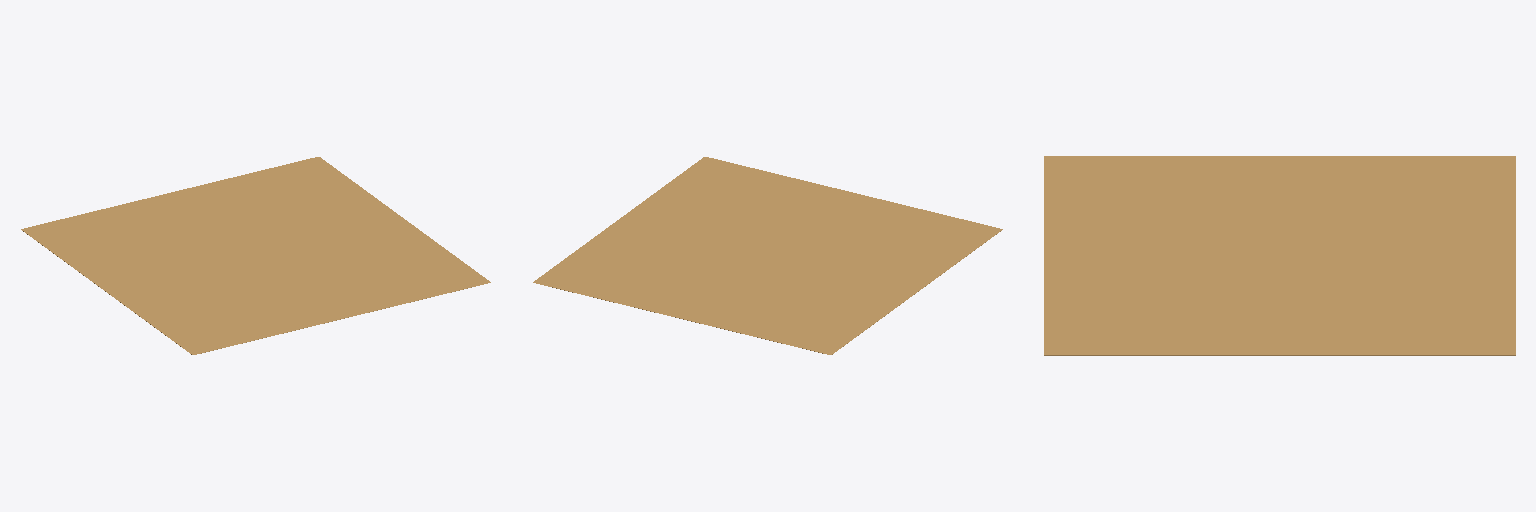
URDF robot description (region):
<?xml version="1.0"?>
<robot name="region">
  <material name="Wood">
    <color rgba="0.827 0.675 0.463 1.0"/>
  </material>
  <material name="LightWood">
    <color rgba="0.992, 0.871, 0.682, 1.0"/>
  </material>
  <material name="Metal">
    <color rgba="0.718, 0.753, 0.749, 1.0"/>
  </material>
  <link name="base_link">
    <visual>
      <origin xyz="0 0 0.000025" rpy="0 0 0" />
      <geometry>
        <box size="0.1 0.1 0.00005" />
      </geometry>
      <material name="Wood"/>
    </visual>
    <collision>
      <origin xyz="0 0 0.000025" rpy="0 0 0" />
      <geometry>
        <box size="0.1 0.1 0.005" />
      </geometry>
    </collision>
  </link>
</robot>

--- Render facts (derived) ---
Views: 3 orthographic renders of the robot side by side, from view 1: azimuth 30°, elevation 25°; view 2: azimuth 150°, elevation 25°; view 3: azimuth 270°, elevation 25°.
Model region with 1 links and 0 joints (none), rooted at base_link, posed every joint at zero.
Links seen in each view (by area): view 1: base_link; view 2: base_link; view 3: base_link.
Boxes of the visible links, x1=… form: base_link: x1=21, y1=157, x2=490, y2=354; base_link: x1=533, y1=157, x2=1002, y2=354; base_link: x1=1044, y1=156, x2=1515, y2=355.
Bounding box of the posed robot: 0.1 × 0.1 × 0 m (x, y, z).
Geometry: primitives only (box / cylinder / sphere), no mesh files.
